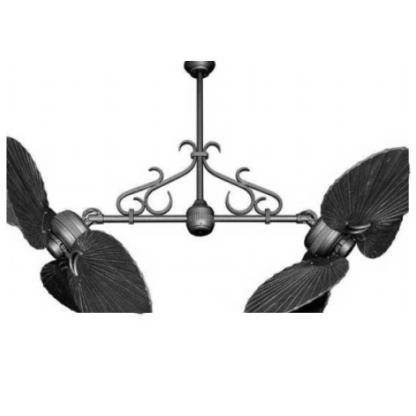ceiling-fan: (6, 61, 410, 314)
